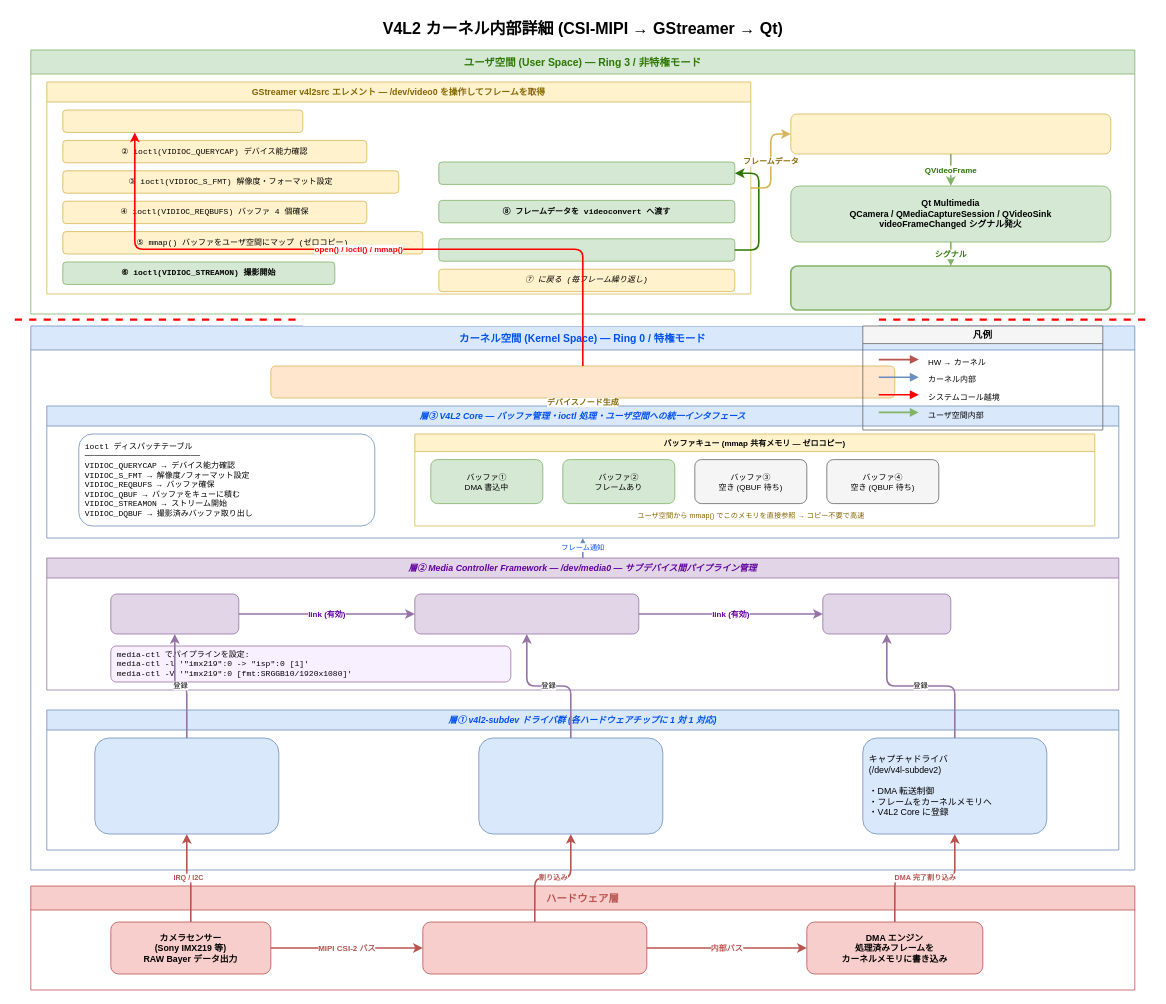
The diagram is 1166 pixels wide and 1004 high, and some of its shapes have lost their labels. Here are the shapes that lost their labels. From the top down, the centre of each, then its label:
[182,120]: ① open("/dev/video0", O_RDWR)
[950,133]: videoconvert (YUV→RGB) → videoscale → qtvideosink
[586,172]: ⑦ ioctl(VIDIOC_DQBUF) 撮影済みフレーム取り出し
[586,249]: ⑨ ioctl(VIDIOC_QBUF) バッファを返却
[950,287]: Qt アプリケーション QVideoWidget で表示 / QVideoFrame で画像処理
[590,316]: システムコール境界 — open() / ioctl() / mmap() — CPU が Ring3 ⇔ Ring0 を切り替える
[582,381]: /dev/video0 — キャラクタデバイスノード (V4L2 Core が起動時に自動生成)
[174,613]: [センサー] pad0: 出力▶
[526,613]: ◀pad0: 入力 [ISP] pad1: 出力▶
[886,613]: ◀pad0: 入力 [キャプチャ]
[186,785]: センサードライバ (/dev/v4l-subdev0) ・露出 / ゲイン 設定 ・フレームレート設定 ・v4l2_subdev_ops 実装
[570,785]: ISP ドライバ (/dev/v4l-subdev1) ・デモザイク / 色補正 ・RAW → YUV/RGB 変換 ・v4l2_subdev_ops 実装
[534,947]: ISP (Image Signal Processor) デモザイク / ノイズ除去 ホワイトバランス / RAW→YUV 変換
